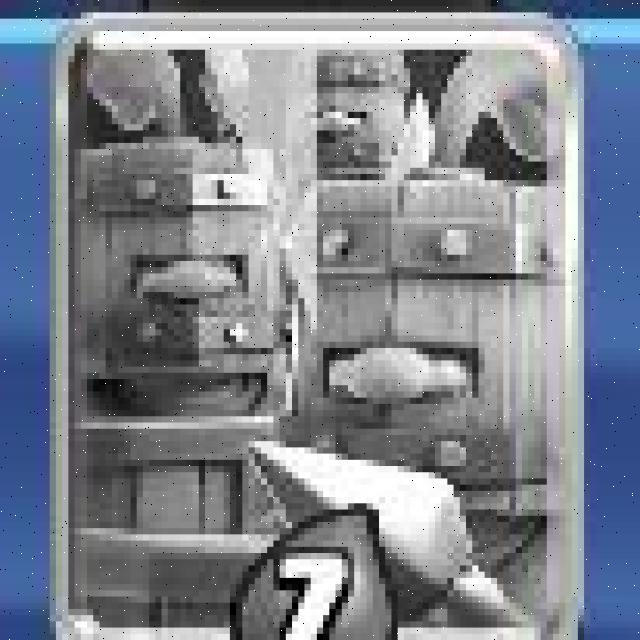Royal_Recruits: (59, 13, 579, 640)
